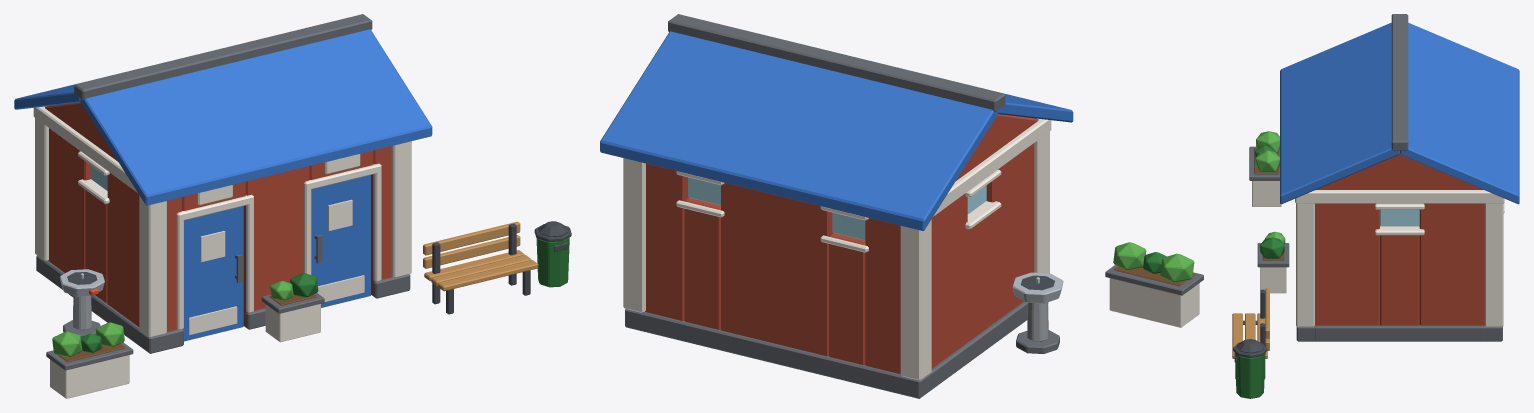
File: town-public-restroom.glb
3 views of the same model, side by side, from view 1: azimuth 30°, elevation 25°; view 2: azimuth 150°, elevation 25°; view 3: azimuth 270°, elevation 25° (orthographic). The views are drawn at different scales.
Parts seen in each view (by area): view 1: Restroom_Roof, Restroom_Brick, Restroom_Trim, Restroom_Plinth, Door_Left, Door_Right, Bench, Planter_Long, Planter_Small, TrashBin, DrinkingFountain; view 2: Restroom_Brick, Restroom_Roof, Restroom_Plinth, Restroom_Trim, Planter_Long, DrinkingFountain, Restroom_Windows; view 3: Restroom_Roof, Restroom_Brick, Restroom_Trim, Restroom_Plinth, Planter_Long, TrashBin, Planter_Small, Bench, Restroom_Windows.
Part boxes in pixels (x1,y1,x2,y2): Restroom_Roof: (14, 29, 432, 205); Restroom_Brick: (45, 102, 392, 331); Restroom_Trim: (33, 106, 411, 337); Restroom_Plinth: (36, 14, 410, 353); Door_Left: (183, 206, 243, 341); Door_Right: (311, 175, 370, 307); Bench: (423, 221, 538, 314); Planter_Long: (46, 322, 133, 398); Planter_Small: (261, 273, 324, 342); TrashBin: (534, 221, 571, 287); DrinkingFountain: (59, 269, 104, 337); Restroom_Brick: (645, 114, 1038, 374); Restroom_Roof: (600, 31, 1073, 230); Restroom_Plinth: (625, 14, 1048, 398); Restroom_Trim: (623, 118, 1051, 380); Planter_Long: (1105, 242, 1203, 327); DrinkingFountain: (1012, 272, 1063, 353); Restroom_Windows: (688, 177, 986, 240); Restroom_Roof: (1280, 22, 1519, 204); Restroom_Brick: (1315, 153, 1484, 325); Restroom_Trim: (1295, 190, 1504, 326); Restroom_Plinth: (1296, 14, 1502, 341); Planter_Long: (1249, 131, 1281, 206); TrashBin: (1233, 339, 1267, 398); Planter_Small: (1257, 231, 1289, 293); Bench: (1232, 288, 1269, 378); Restroom_Windows: (1380, 209, 1419, 226).
Bounding box in the file's own units: 31.68 × 13.75 × 17.27.
